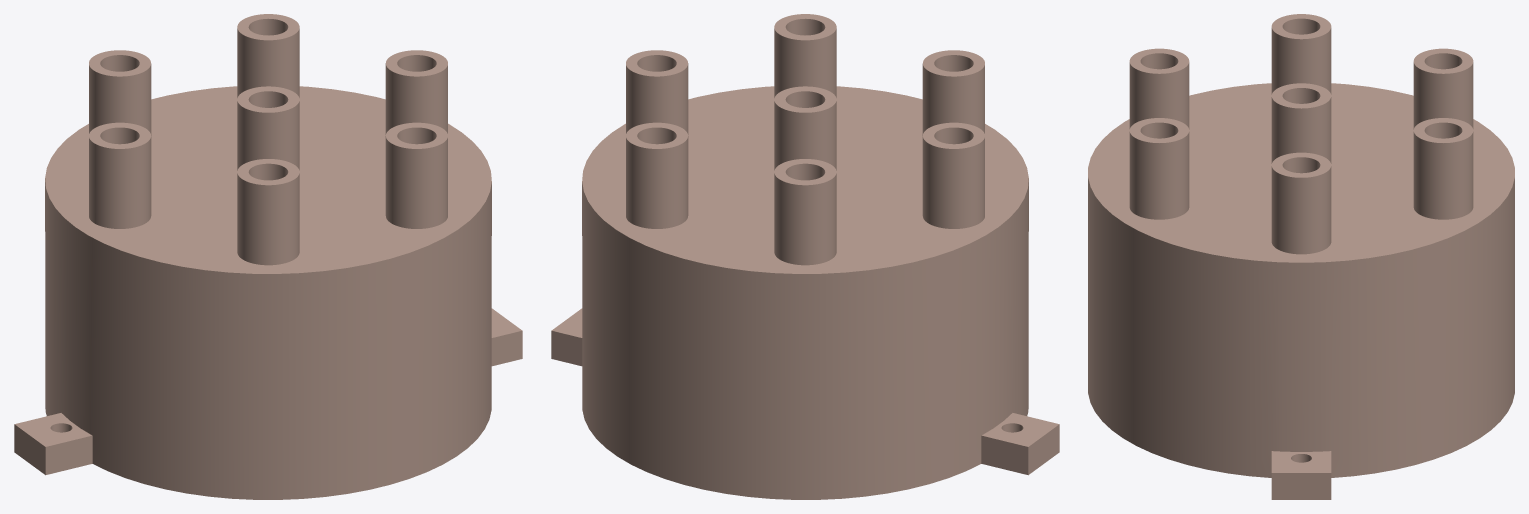
File: distributor-cap.glb
3 renders of one model, left to right at view 1: azimuth 30°, elevation 25°; view 2: azimuth 150°, elevation 25°; view 3: azimuth 270°, elevation 25°, orthographic. The views are drawn at different scales.
Visible parts, largest first — view 1: world; view 2: world; view 3: world.
Part boxes in pixels (x1=…): world: x1=14, y1=14, x2=522, y2=499; world: x1=551, y1=14, x2=1059, y2=499; world: x1=1088, y1=14, x2=1514, y2=499.
Size of the model in its own units: 0.106 by 0.065 by 0.0859.
